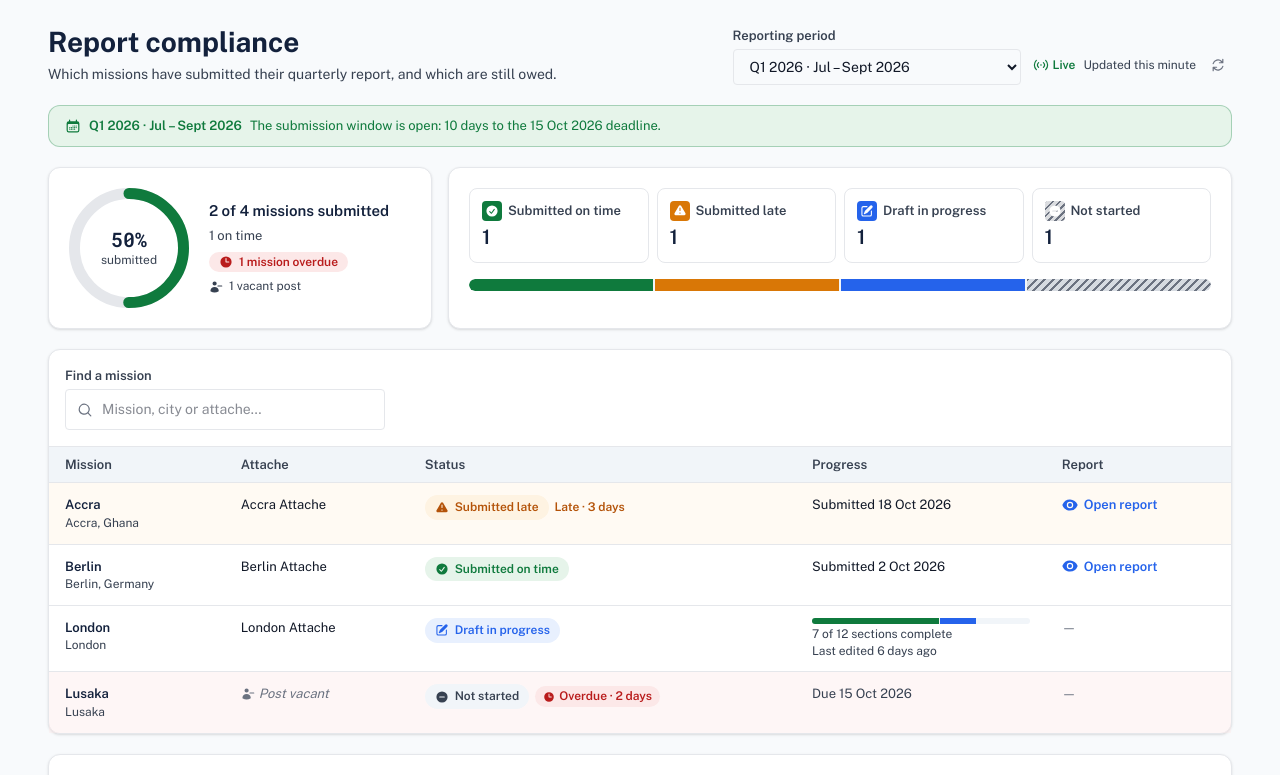
Test: ComplianceDashboardPage › TC-FR-RPT-018-B: summarises the period and filters the missions by state
Expected: the row with test id "compliance-row-m-berlin" is shown, [49,544,1231,605]
Expected: the picture named "2 of 4 missions have submitted" is shown, [69,188,189,308]
Click the button with test id "compliance-tile-draft_in_progress" at (934, 225), box [844,188,1024,263]
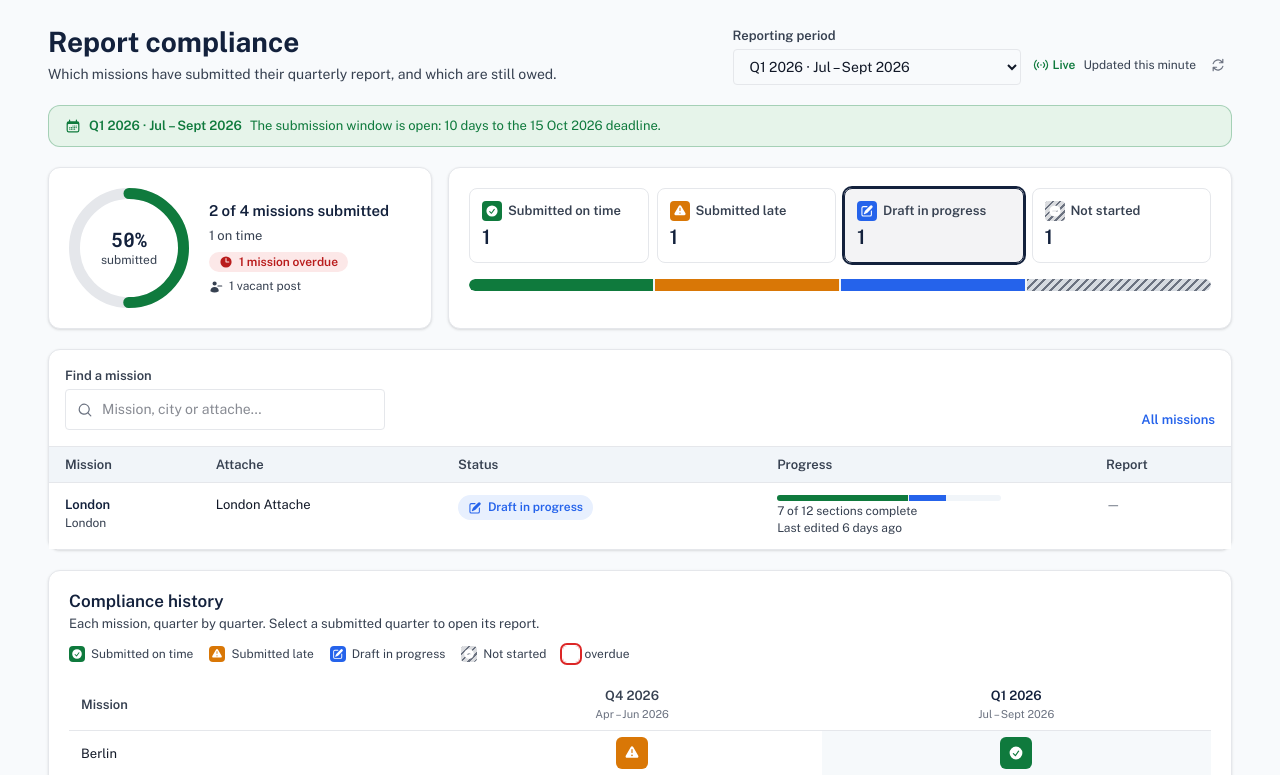
Expected: the row with test id "compliance-row-m-london" is shown, [49,483,1231,549]
Expected: the row with test id "compliance-row-m-berlin" is gone
Type "zzz" into the search field labelled "Find a mission" at (225, 410), box [65,389,385,430]
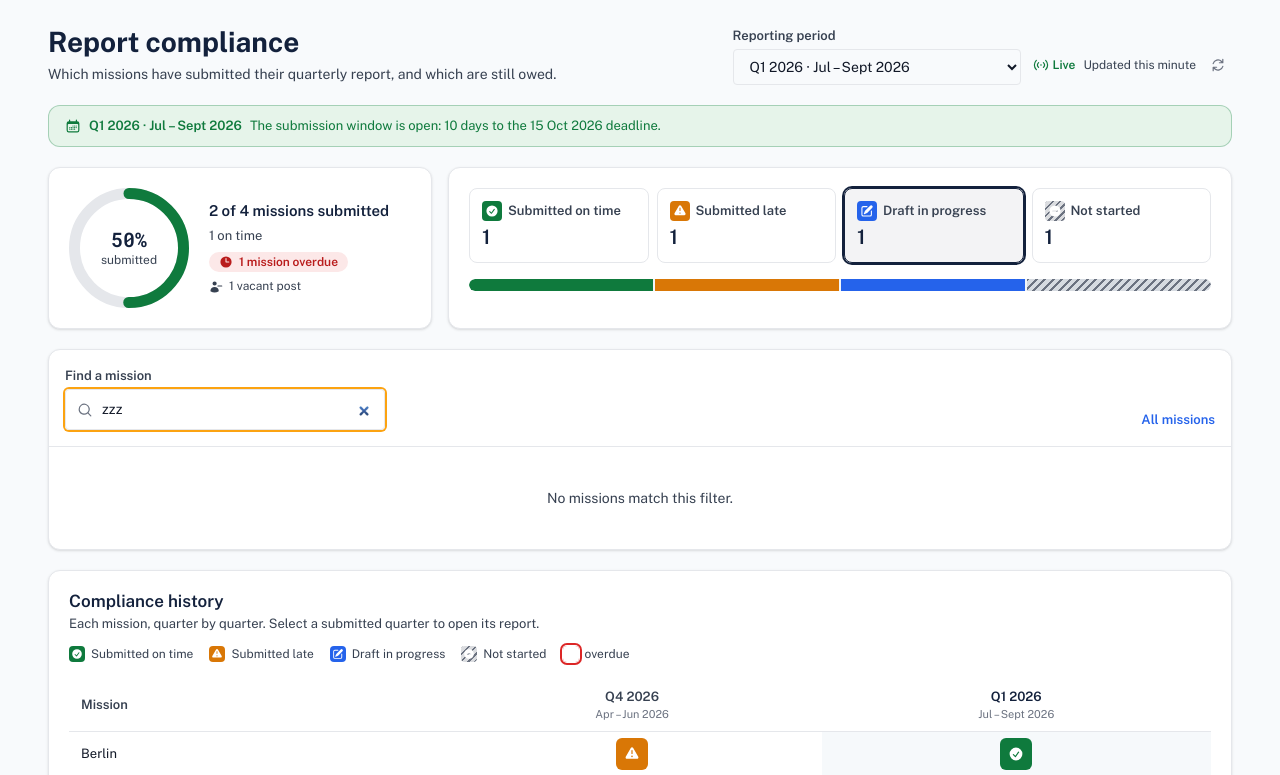
Expected: the text "No missions match this filter." is shown, [547,490,733,506]
